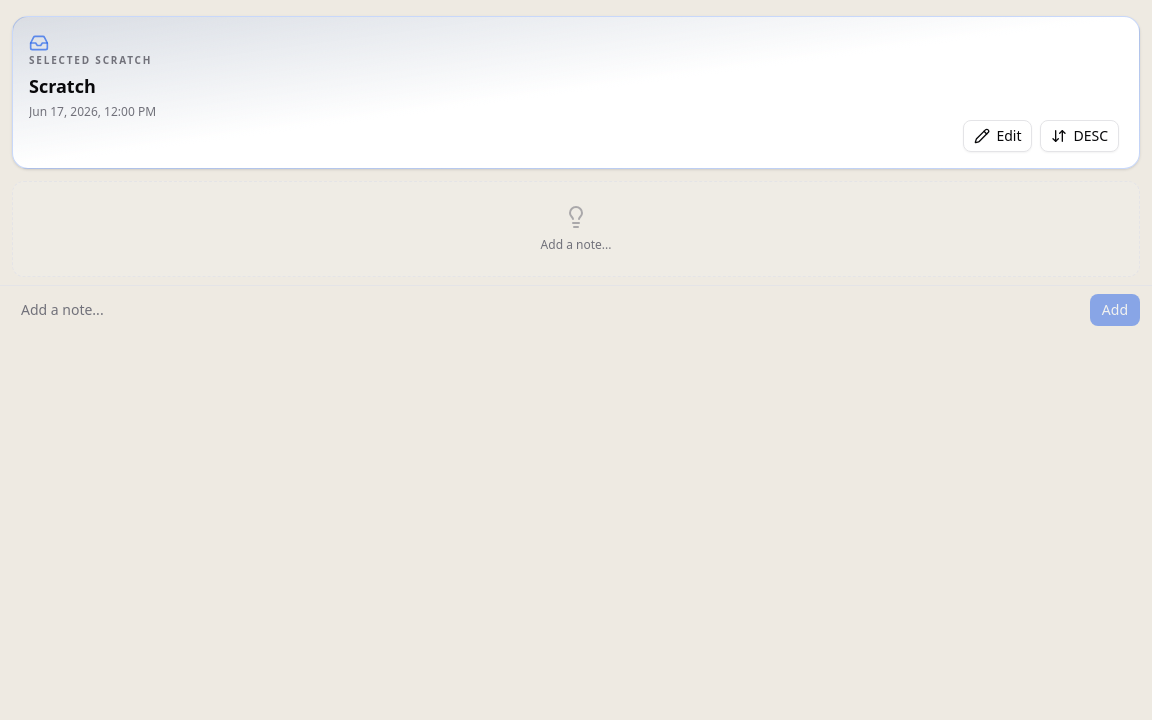
Test: BreakdownPanel › connects the real Task 139 controller to both actions and the latest destination
Click the button "Add a note..." at coordinates (62, 310), box [21,300,104,319]
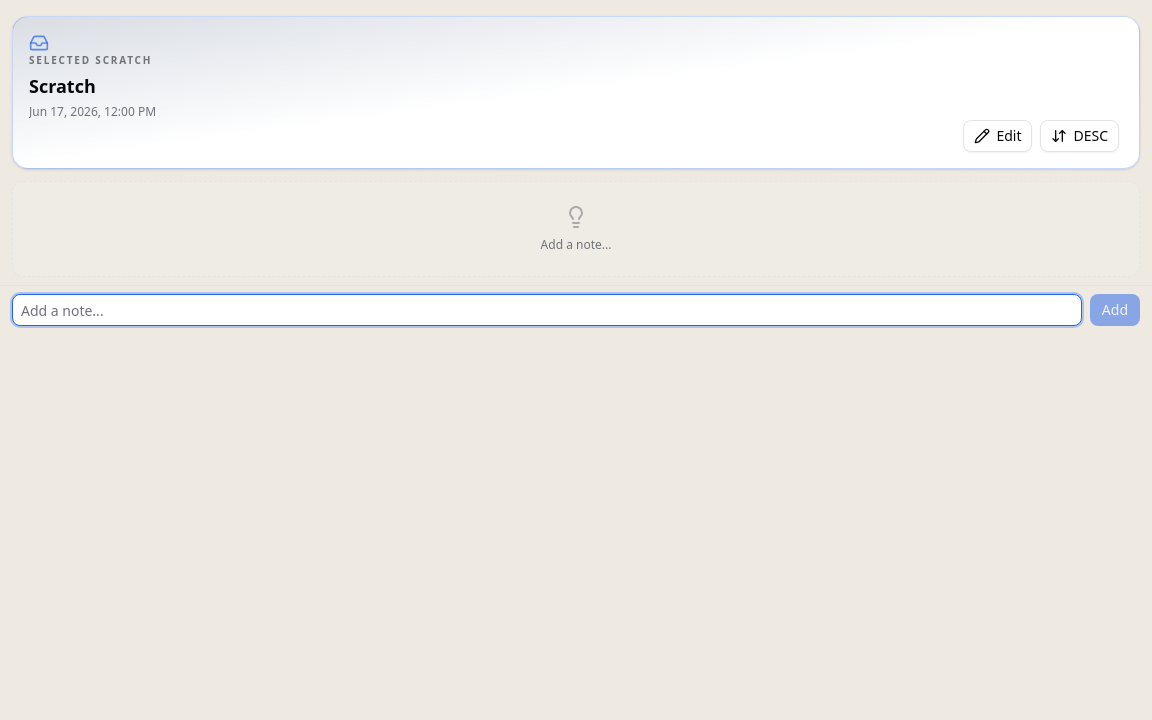
Type "Protected Add draft" into the field at coordinates (547, 310), box [12,294,1082,326]
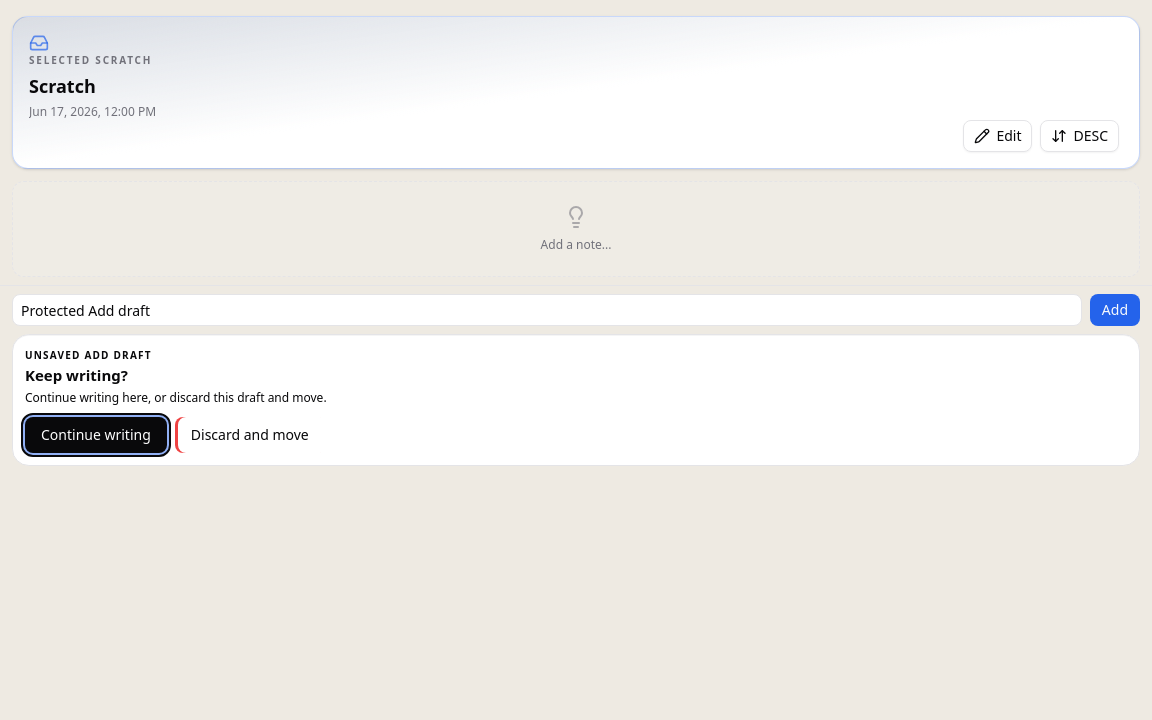
Click the button "Discard and move" at coordinates (250, 435), box [175,417,325,453]
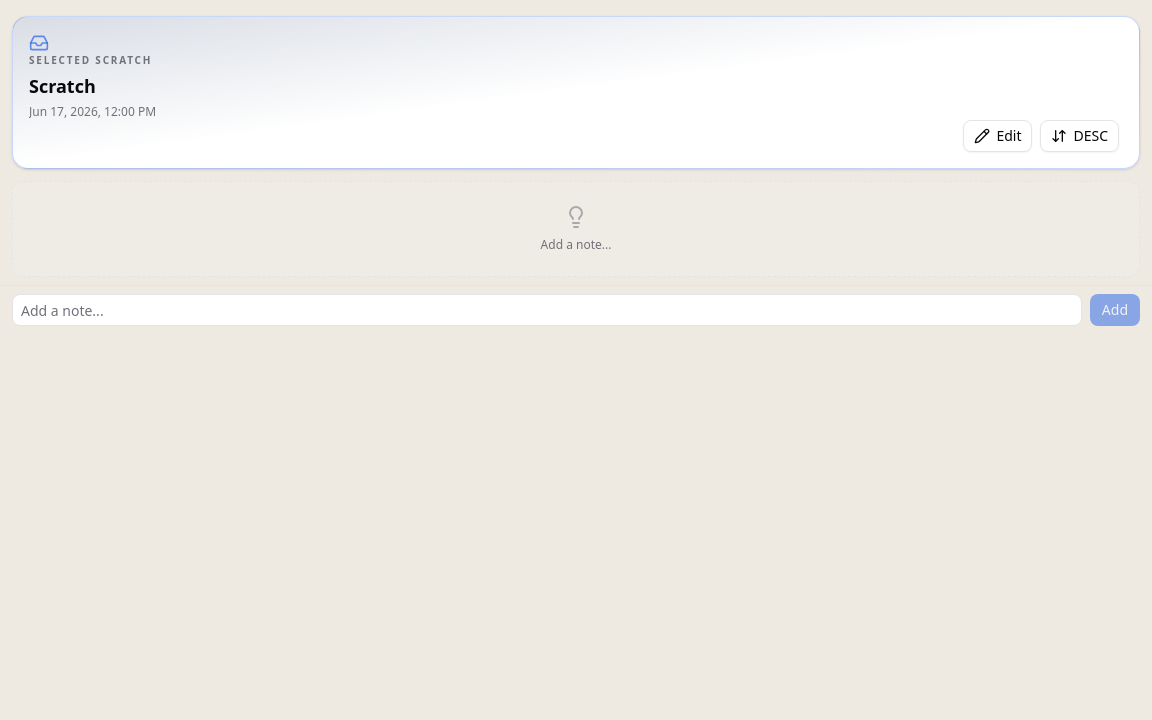
Expected: the field is empty
Expected: the dialog is gone
Type "Keep this draft" into the field at coordinates (547, 310), box [12,294,1082,326]
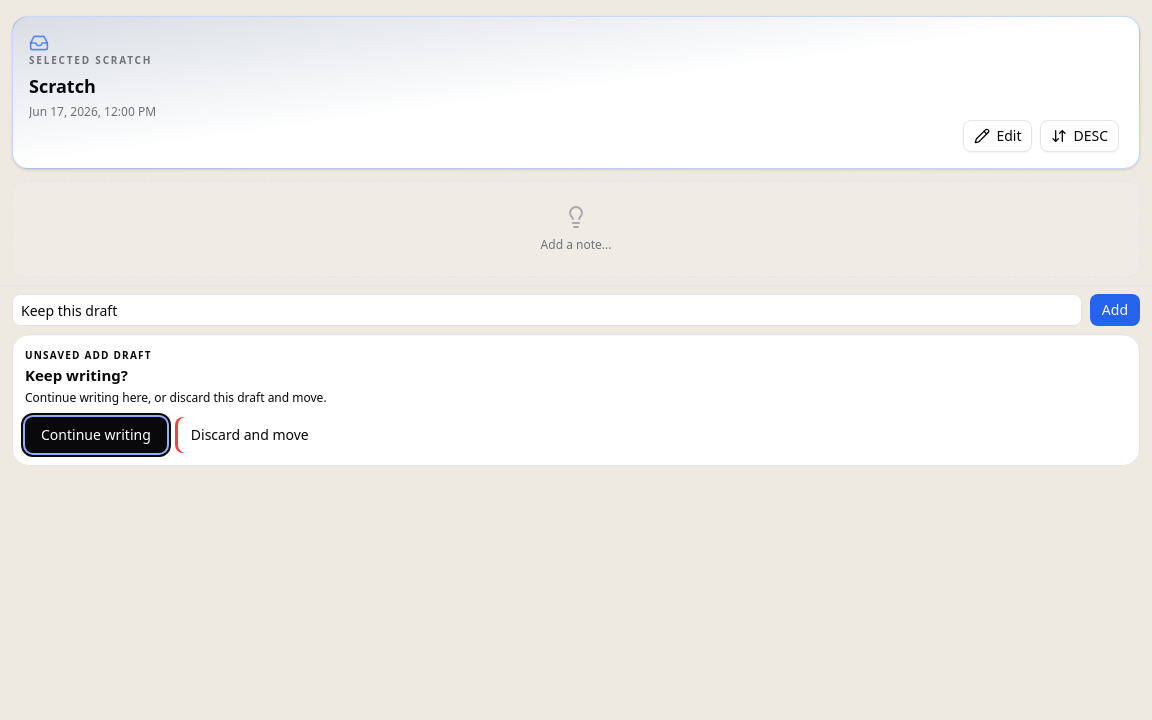
Click the button "Continue writing" at coordinates (96, 435), box [25,417,167,453]
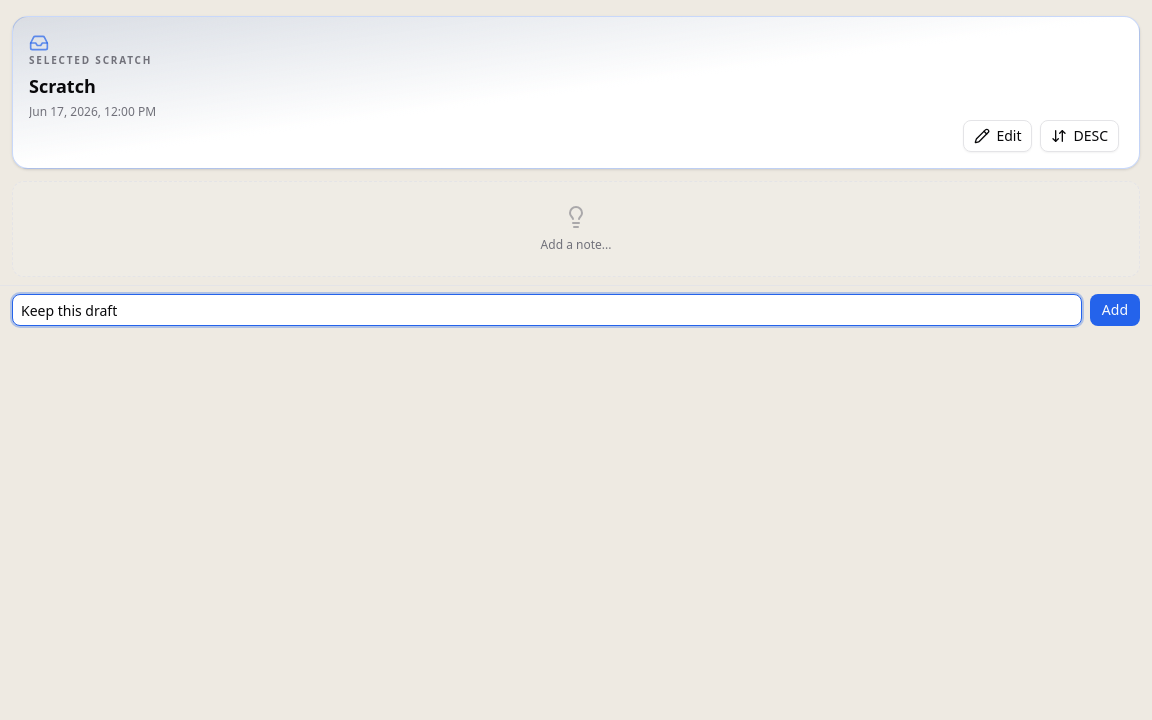
Expected: the dialog is gone
